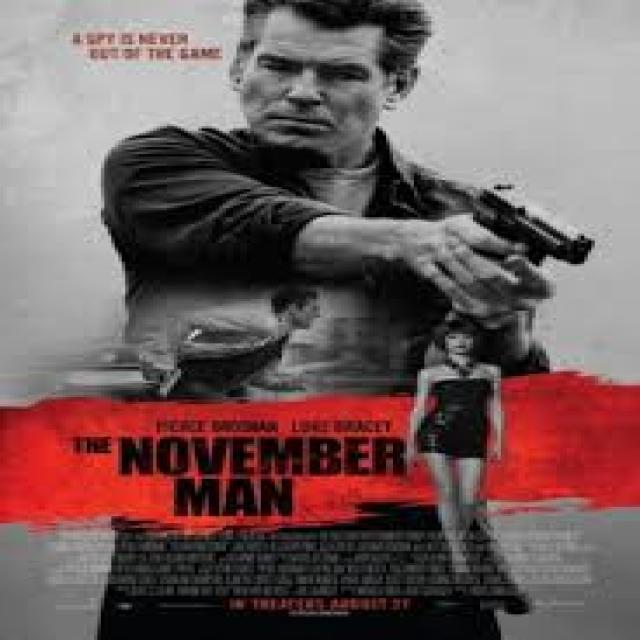gun: (424, 168, 640, 320)
